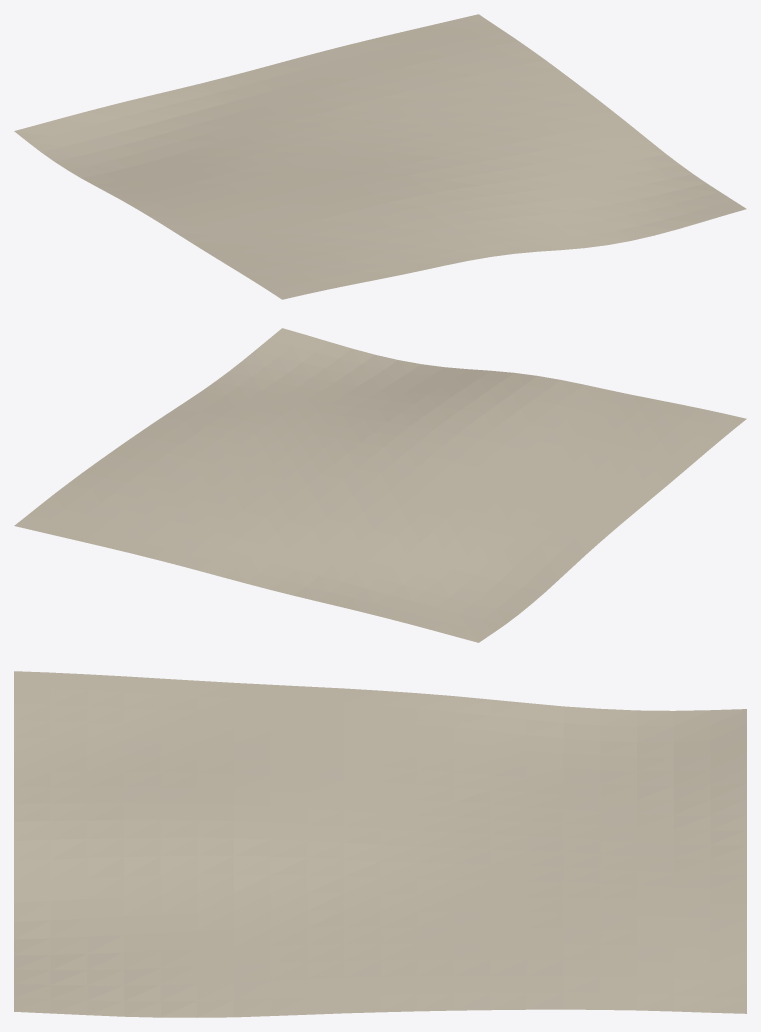
The model's file is bolak_-37_-7.glb.
3 views of the same model, one above another, from view 1: azimuth 30°, elevation 25°; view 2: azimuth 150°, elevation 25°; view 3: azimuth 270°, elevation 25° (orthographic). The views are drawn at different scales.
Visible parts, largest first — view 1: Yer_Tuproq-col; view 2: Yer_Tuproq-col; view 3: Yer_Tuproq-col.
Boxes of the visible parts, x1,y1,x2,y2 form: Yer_Tuproq-col: (14,14,746,299); Yer_Tuproq-col: (14,328,746,642); Yer_Tuproq-col: (14,671,746,1017).
Size of the model in its own units: 400 by 24.18 by 400.
